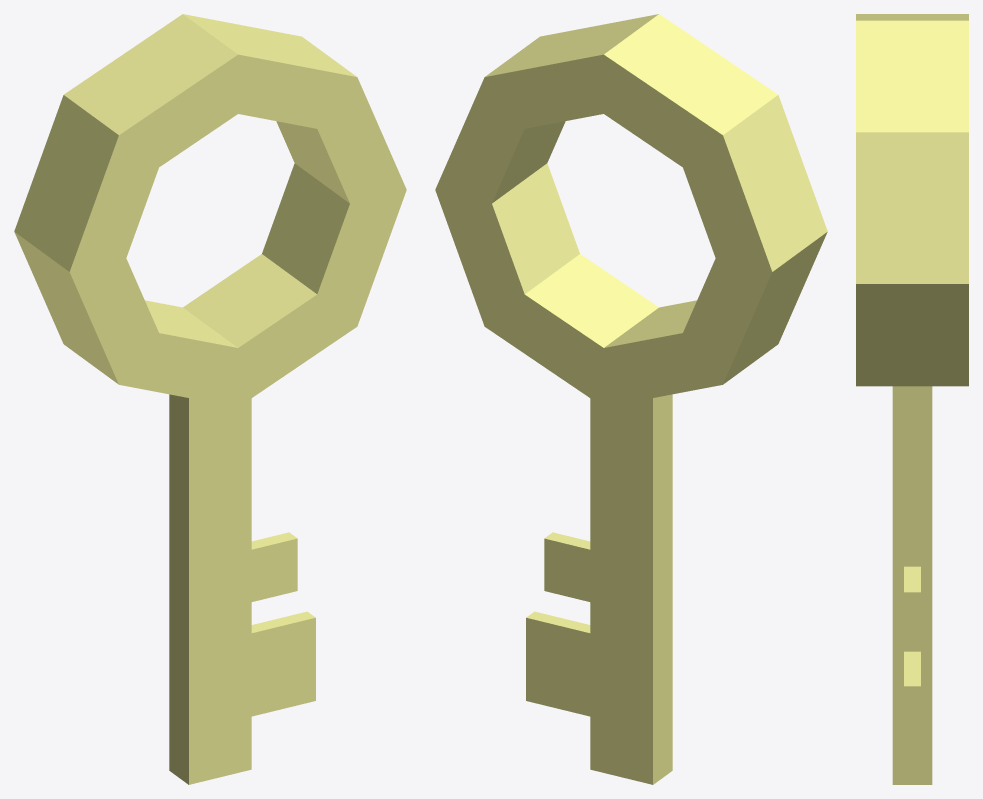
Rendered from key.fbx.
The picture shows the model from 3 angles, left to right: view 1: azimuth 30°, elevation 25°; view 2: azimuth 150°, elevation 25°; view 3: azimuth 270°, elevation 25°; orthographic projection.
Visible parts, largest first — view 1: Cylinder.011; view 2: Cylinder.011; view 3: Cylinder.011.
Part boxes in pixels (x1,y1,x2,y2): Cylinder.011: (14, 14, 406, 784); Cylinder.011: (435, 14, 827, 784); Cylinder.011: (856, 14, 968, 784).
Size of the model in its own units: 51.52 by 107 by 14.67.
